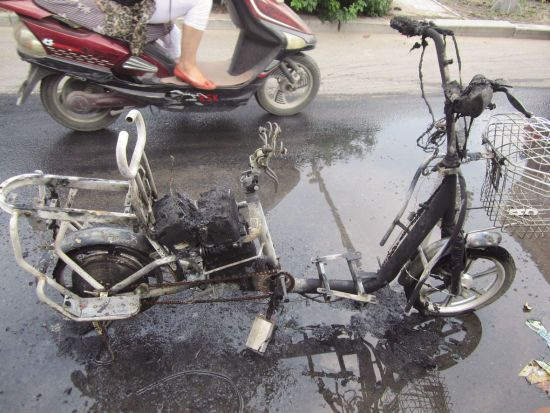non-vehicle: (17, 9, 534, 346), (3, 1, 324, 132)
